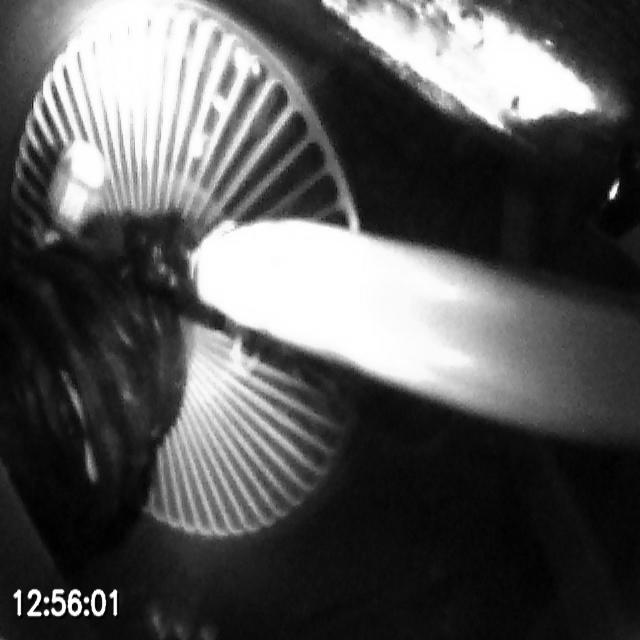head: (40, 141, 108, 246)
